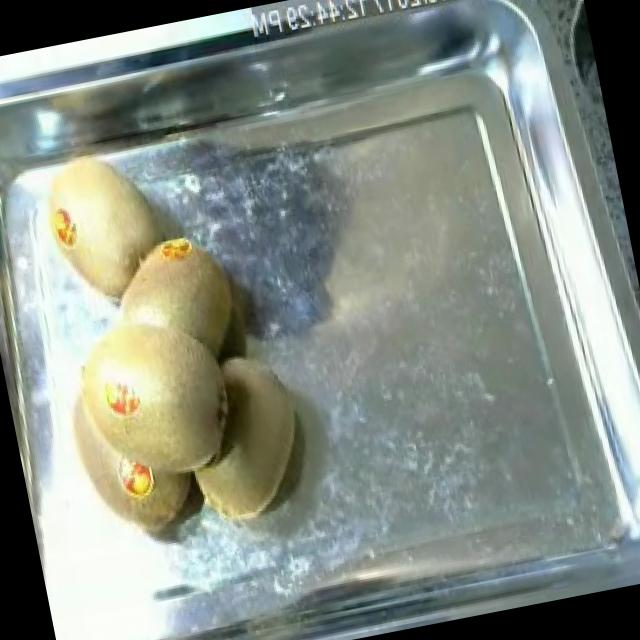Fruit: (36, 294, 258, 520), (158, 333, 325, 539), (23, 136, 178, 318)
